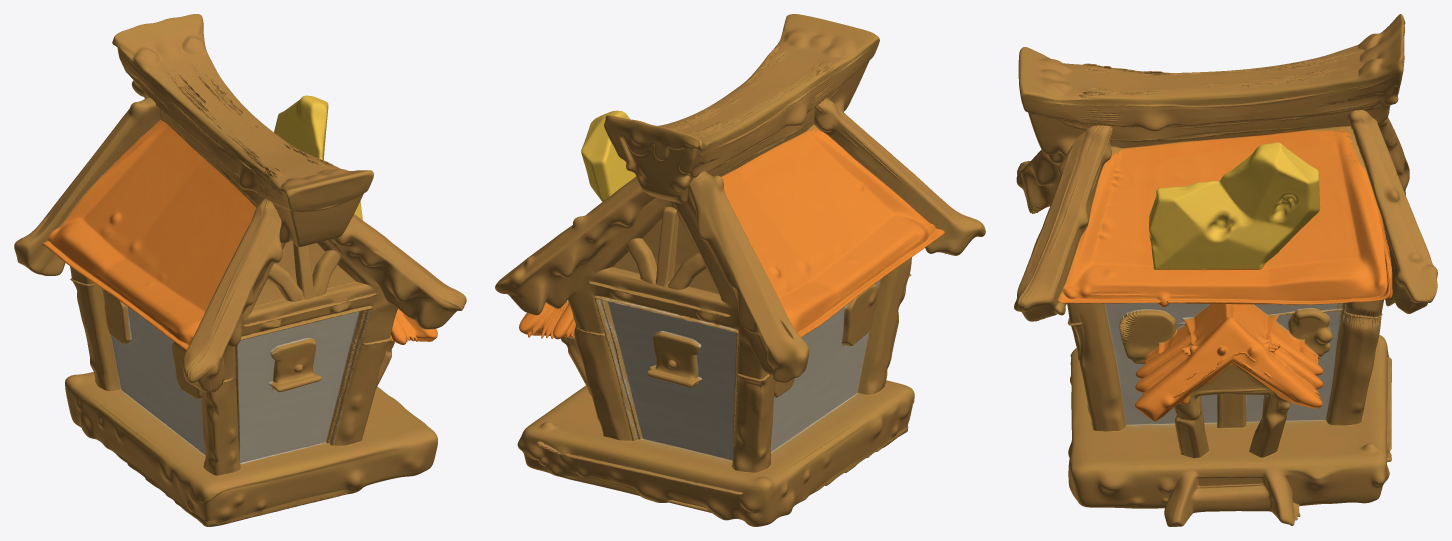
Rendered from restaurant.fbx.
3 renders of one model, left to right at view 1: azimuth 30°, elevation 25°; view 2: azimuth 150°, elevation 25°; view 3: azimuth 270°, elevation 25°, orthographic. The views are drawn at different scales.
Parts seen in each view (by area): view 1: tripo_node_deba6174-18fa-4414-a194-1ac13b87cba7; view 2: tripo_node_deba6174-18fa-4414-a194-1ac13b87cba7; view 3: tripo_node_deba6174-18fa-4414-a194-1ac13b87cba7.
Boxes of the visible parts, bbox=[...] form: tripo_node_deba6174-18fa-4414-a194-1ac13b87cba7: bbox=[14, 14, 466, 526]; tripo_node_deba6174-18fa-4414-a194-1ac13b87cba7: bbox=[495, 14, 985, 526]; tripo_node_deba6174-18fa-4414-a194-1ac13b87cba7: bbox=[1014, 14, 1437, 526].
Size of the model in its own units: 84.25 by 97.97 by 91.55.
1 material, 1 textured.
